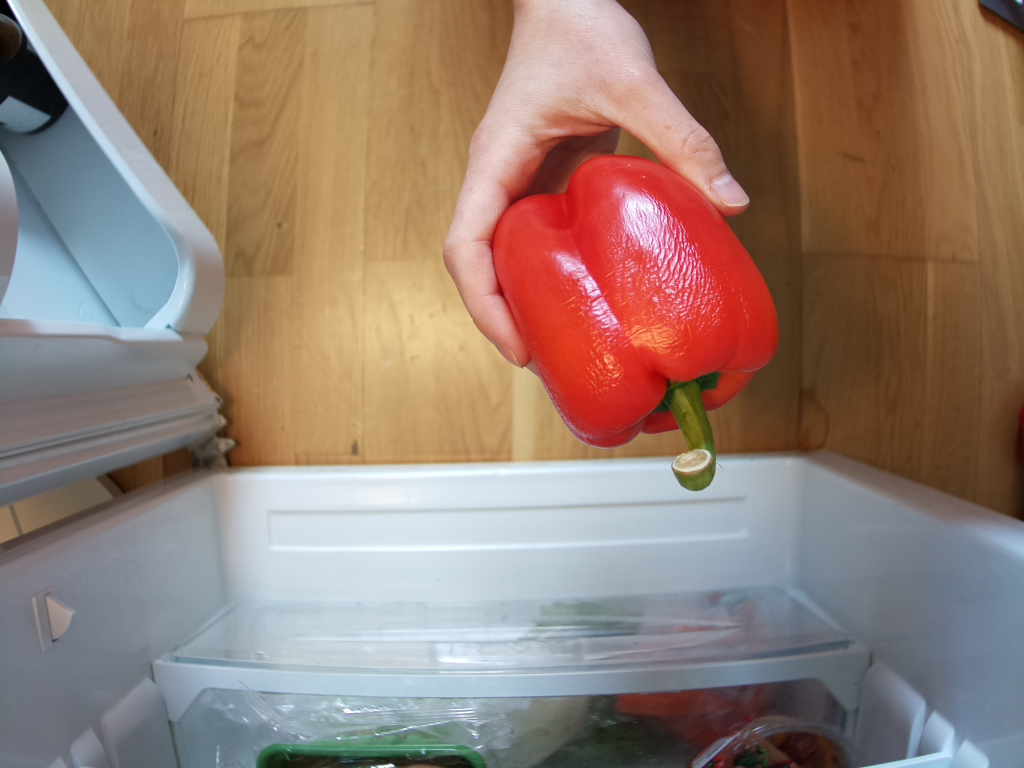pepper-bad: (483, 137, 790, 509)
